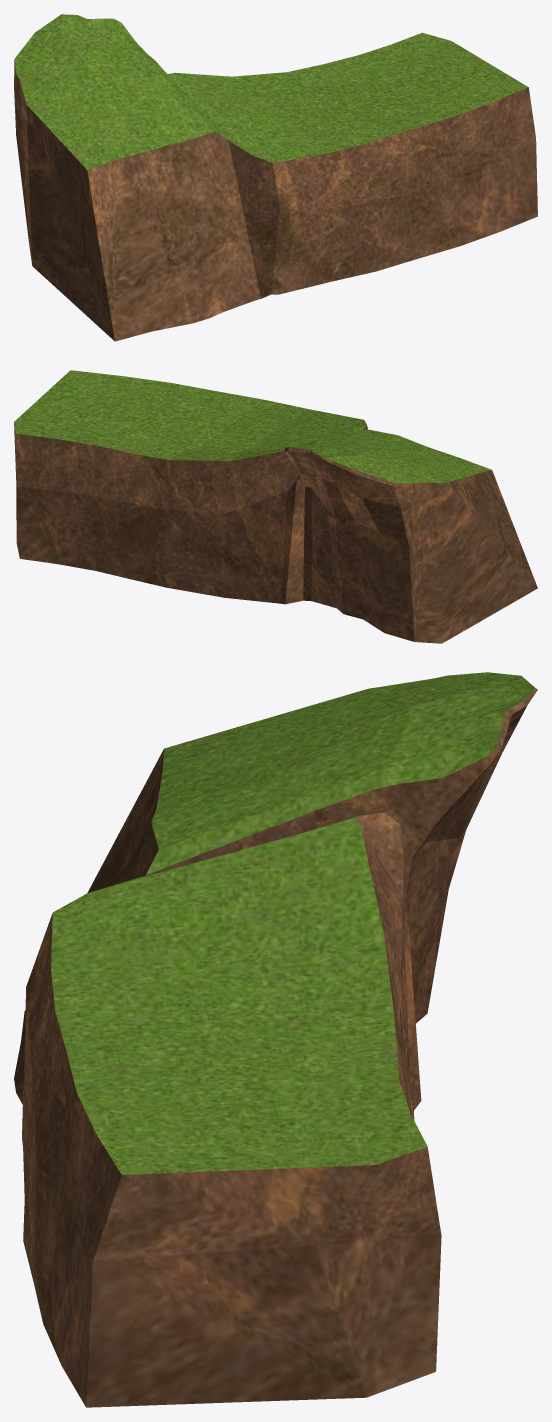
The model's file is Hill.glb.
3 views of the same model, one above another, from view 1: azimuth 30°, elevation 25°; view 2: azimuth 150°, elevation 25°; view 3: azimuth 270°, elevation 25° (orthographic). The views are drawn at different scales.
Parts seen in each view (by area): view 1: Cube; view 2: Cube; view 3: Cube.
Boxes of the visible parts, left/top/right/bottom form: Cube: left=14, top=14, right=537, bottom=341; Cube: left=14, top=370, right=537, bottom=643; Cube: left=14, top=672, right=537, bottom=1407.
Bounding box in the file's own units: 708 × 322 × 385.
2 materials, 2 textured.
